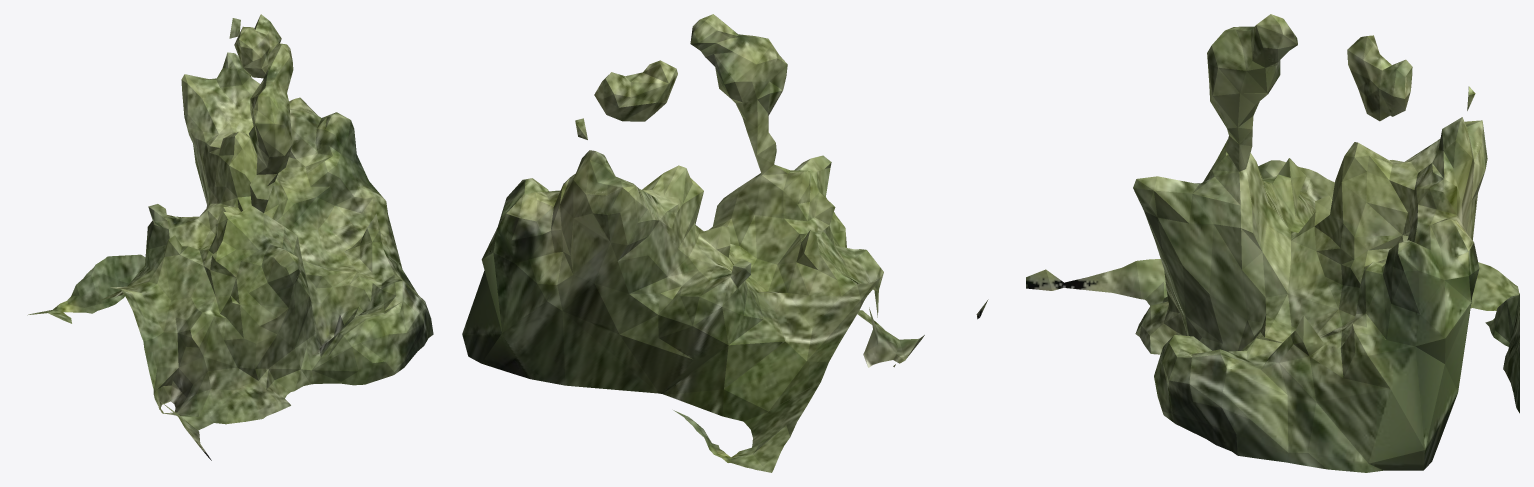
3 renders of one model, left to right at view 1: azimuth 30°, elevation 25°; view 2: azimuth 150°, elevation 25°; view 3: azimuth 270°, elevation 25°, orthographic. The views are drawn at different scales.
Bounding box in the file's own units: 5.29 × 4.79 × 5.9.
Materials: 4 (4 with a texture image).
